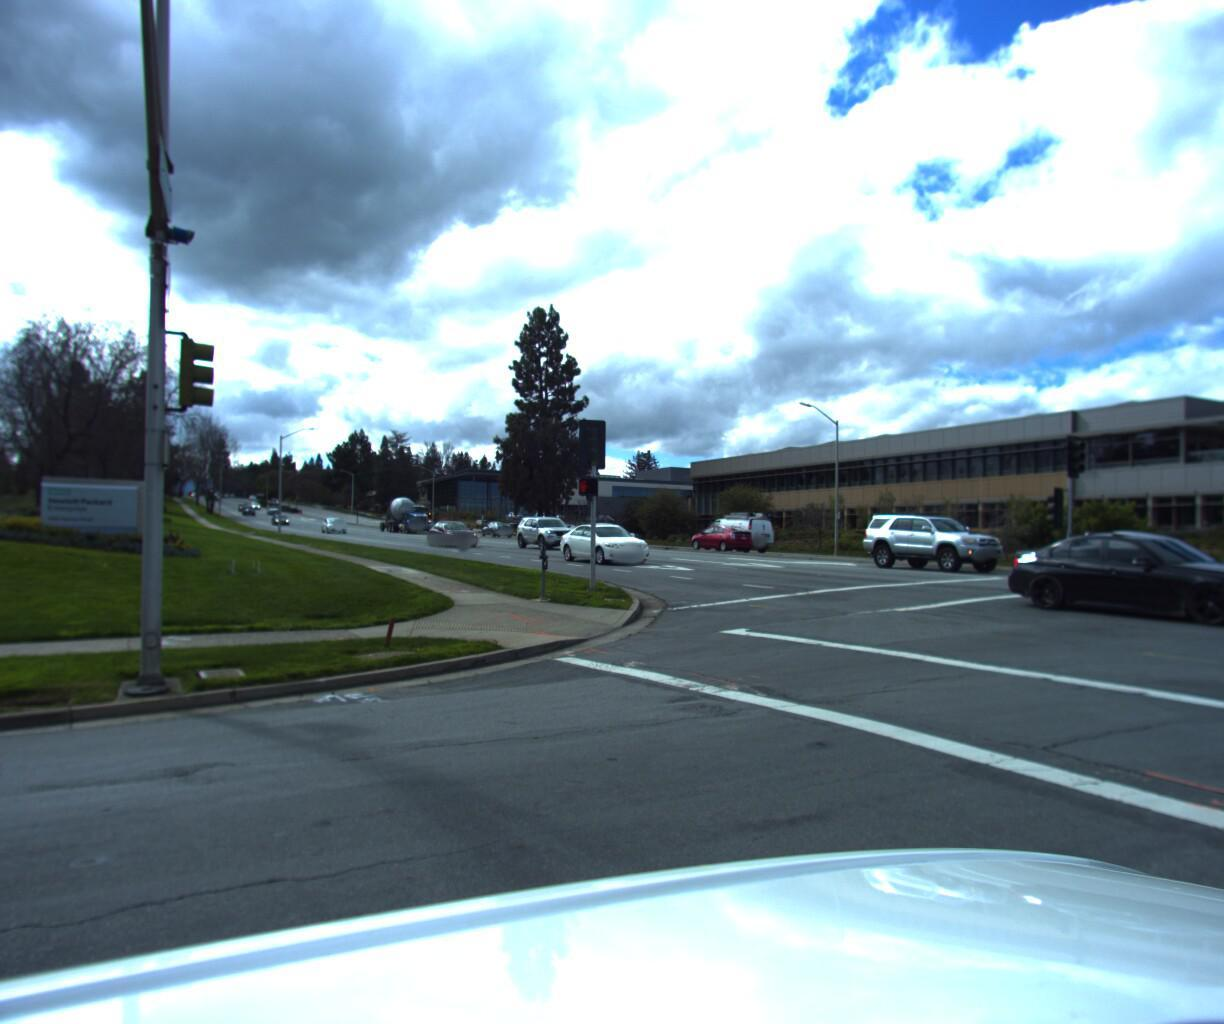car: (995, 535, 1224, 629), (843, 513, 1002, 577), (554, 527, 652, 570), (510, 524, 576, 557), (683, 528, 754, 558), (426, 531, 479, 557), (479, 525, 514, 542), (321, 525, 349, 541)
other_vehicle: (375, 500, 442, 542)
truck: (697, 515, 776, 559)
